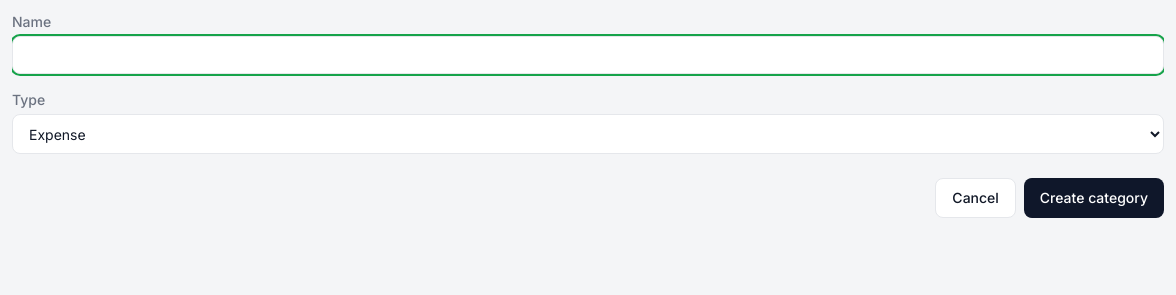
Test: CategoryForm › shows the API error and stays open when the name is taken
The width and height of the screenshot is (1176, 295).
Type "Rent" into the field labelled "Name" at [588, 55], box [12, 36, 1164, 74]
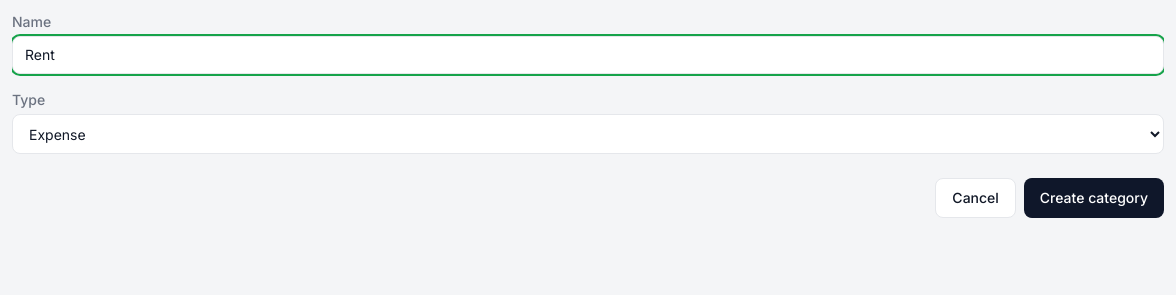
Click the button "Create category" at [1094, 198], box [1024, 178, 1164, 218]
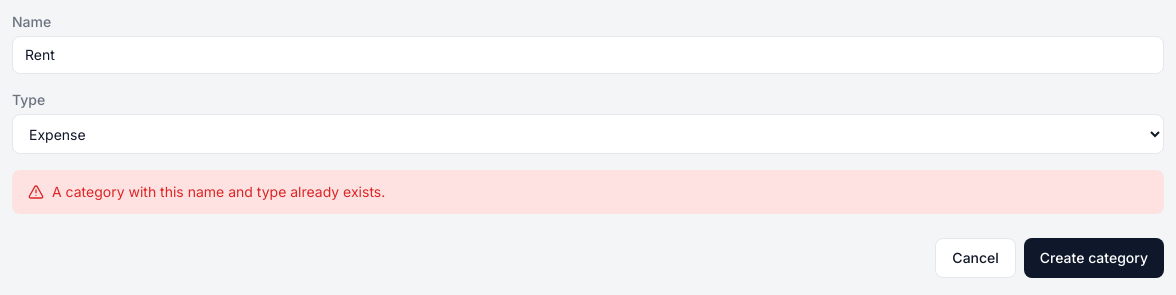
Expected: the text "A category with this name and type already exists." is shown, [52, 182, 385, 202]
